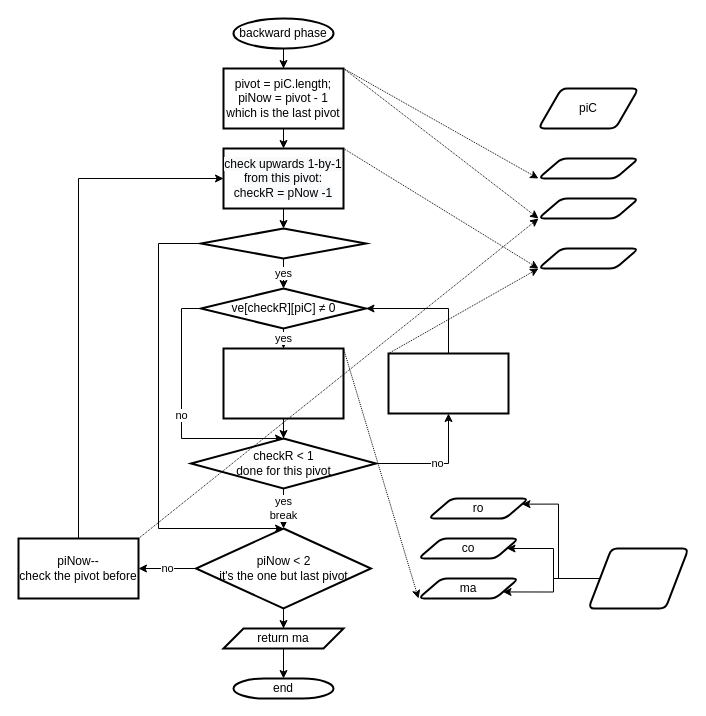
Image size: 706x716. Some labels were removed from this diagram. Here are the shapes that lost their labels. From the top down, the box of each, then its label:
(537, 157, 639, 179): pivot
(537, 197, 639, 219): piNow
(200, 227, 366, 259): checkR >= 0
(537, 247, 639, 269): checkR
(222, 347, 344, 419): subtract row [checkR] by ve[checkR][piC[piNow]] * row [checkR]
(387, 352, 509, 414): checkR++ check the row above
(587, 547, 689, 609): this
